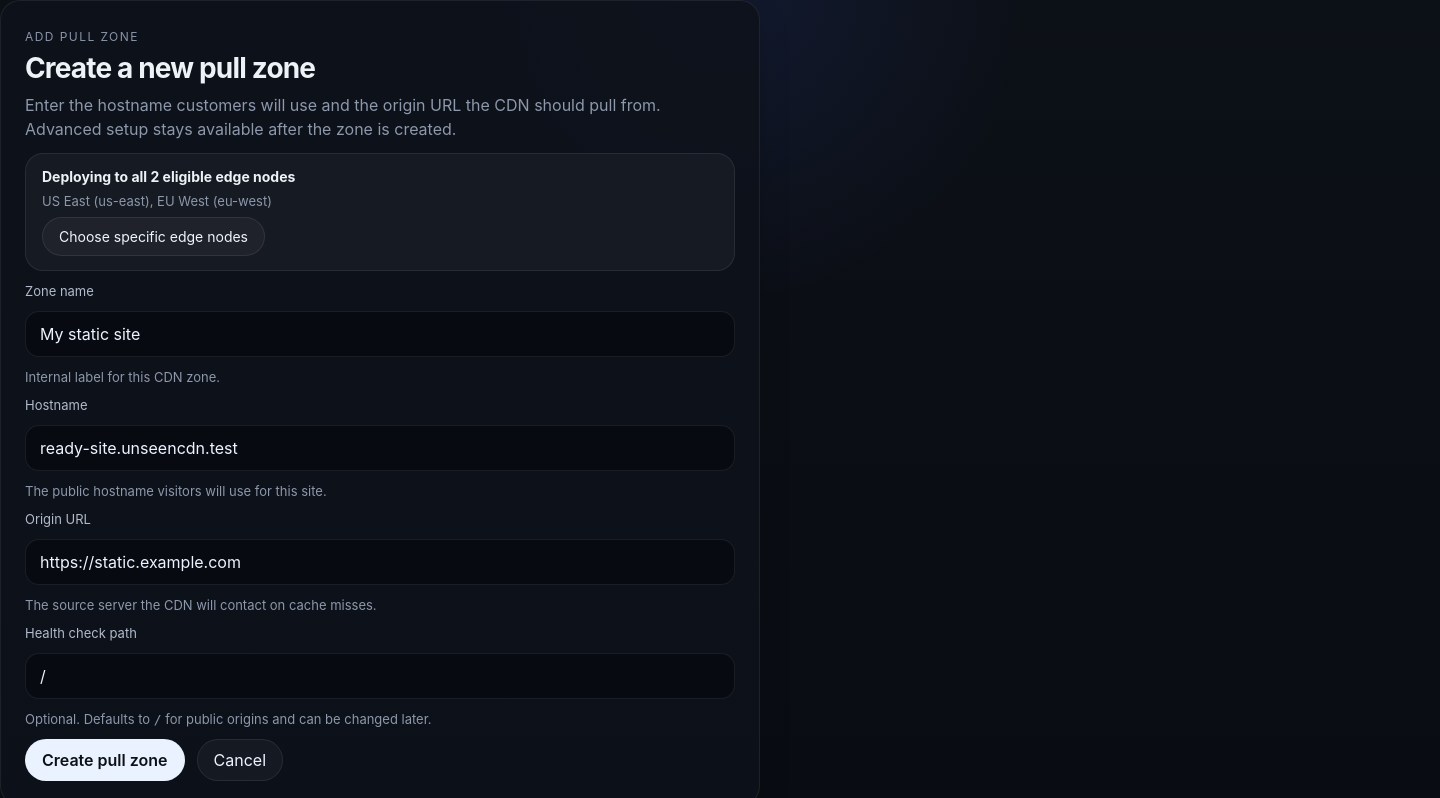
it: new domain form › shows subset selection only after opening advanced edge placement options
Expected: the field labelled "Only selected edge nodes" is not shown
Click the button "Choose specific edge nodes".
click(154, 236)  # box top-left (42, 217), bottom-right (265, 256)
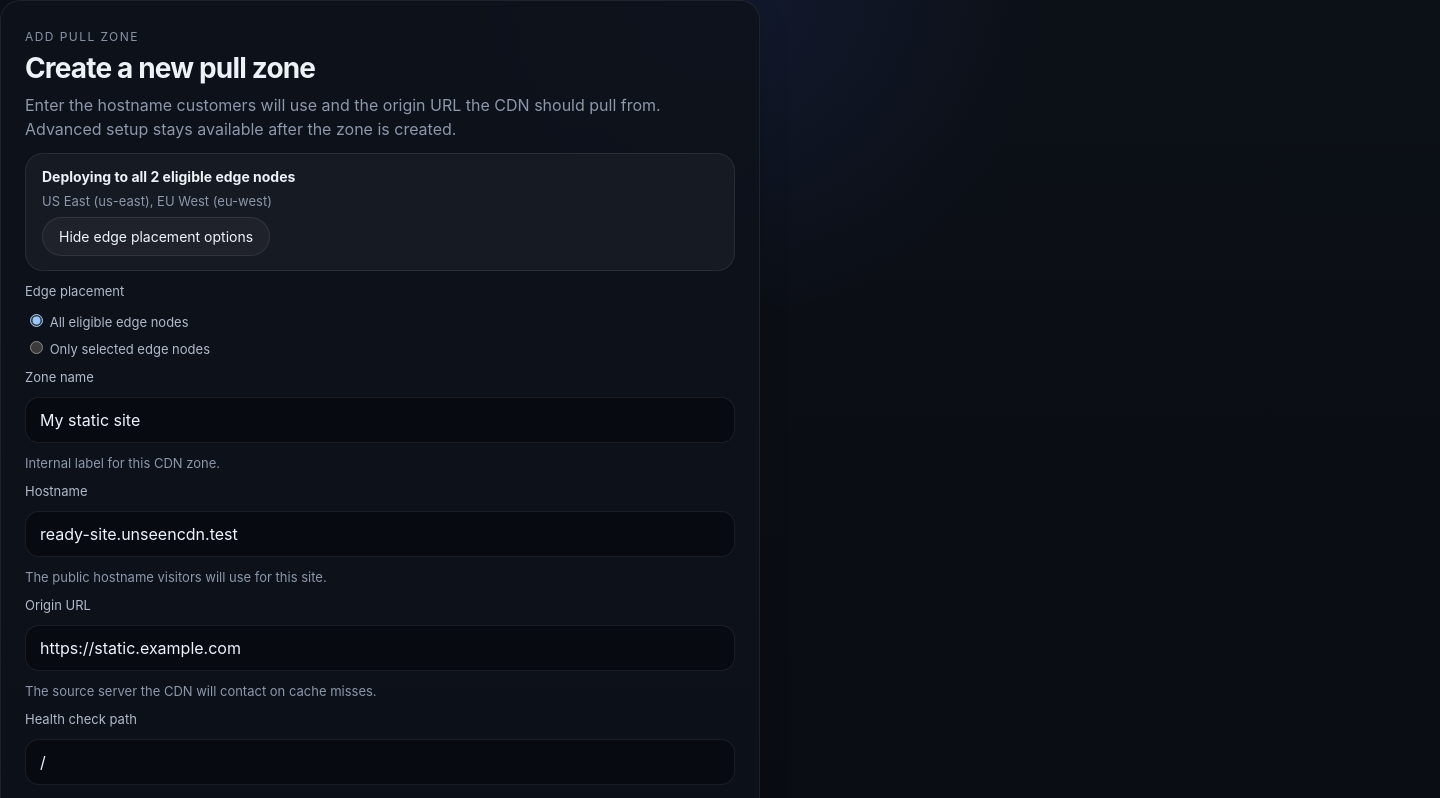
Expected: the radio button labelled "Only selected edge nodes" is shown
Click the radio button labelled "Only selected edge nodes".
click(36, 348)  # box top-left (30, 341), bottom-right (43, 354)
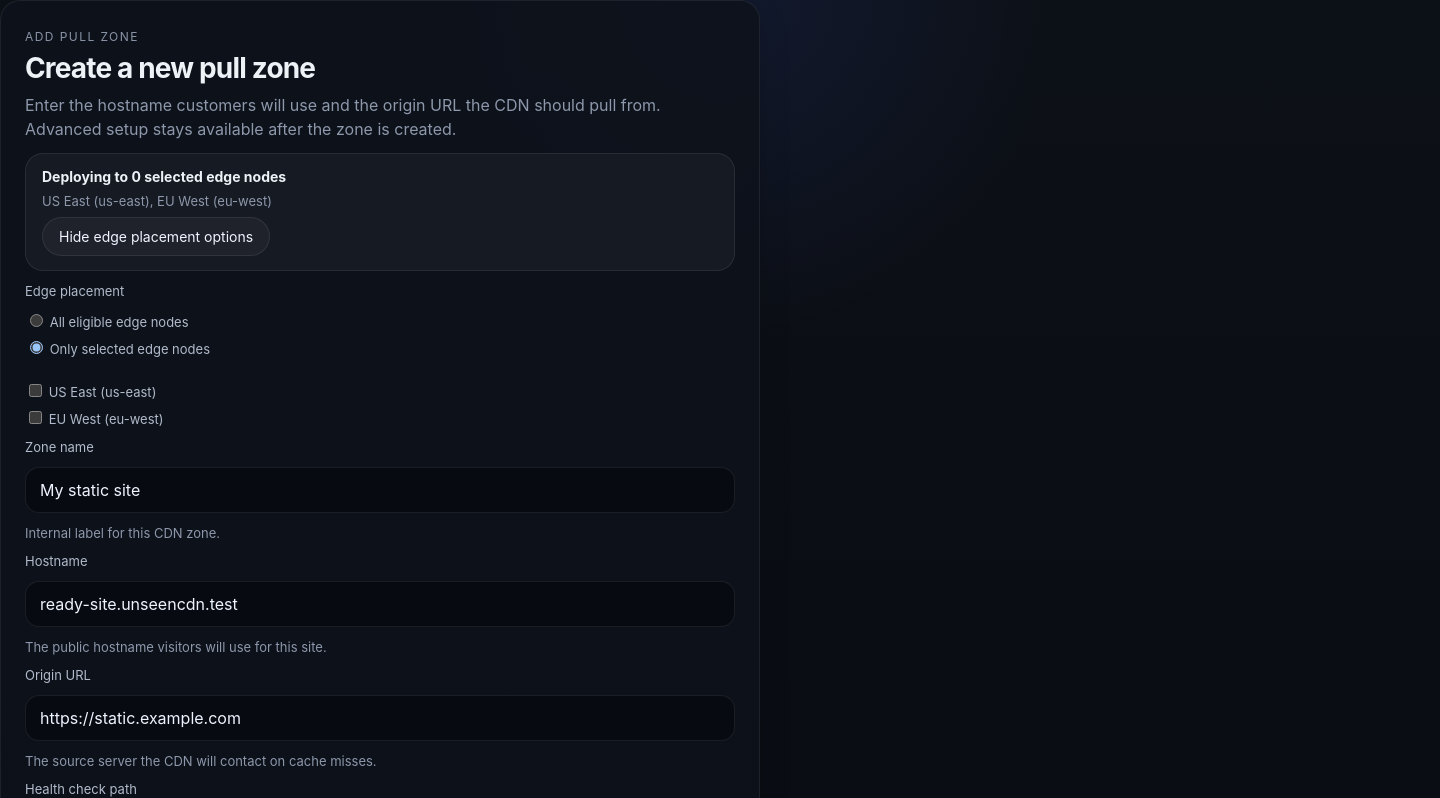
Expected: the checkbox labelled "US East (us-east)" is shown, top-left (29, 384), bottom-right (42, 397)
